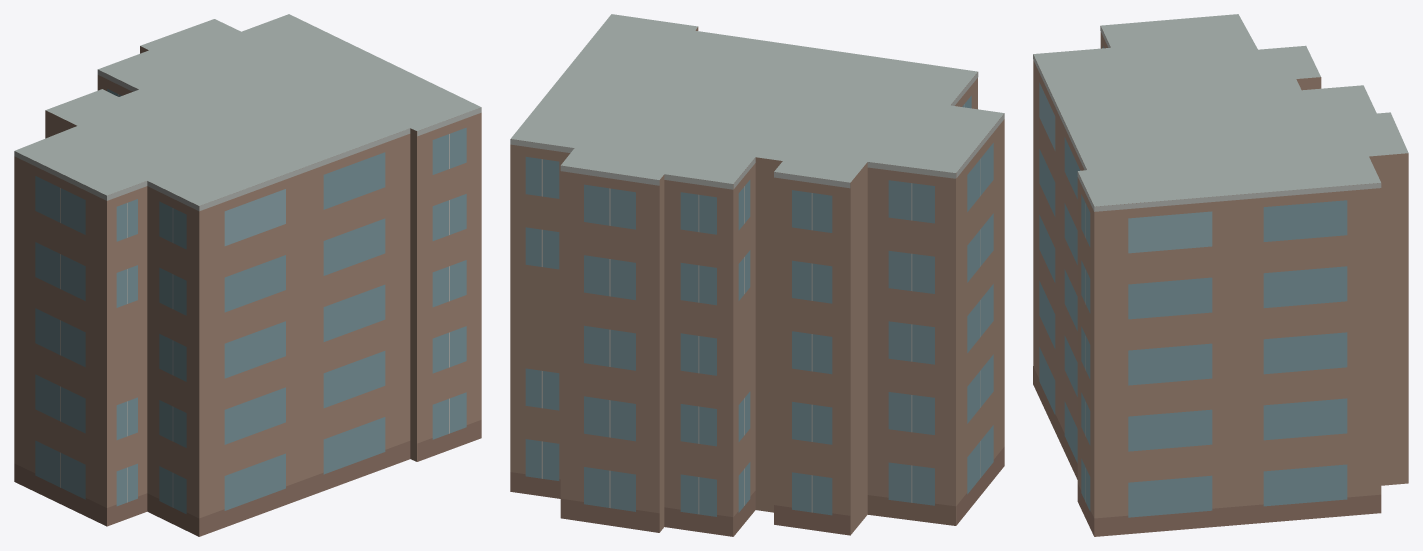
Rendered from survey-upis-32917783.glb.
3 renders of one model, left to right at view 1: azimuth 30°, elevation 25°; view 2: azimuth 150°, elevation 25°; view 3: azimuth 270°, elevation 25°, orthographic. The views are drawn at different scales.
Parts seen in each view (by area): view 1: survey-upis-32917783.tmp; view 2: survey-upis-32917783.tmp; view 3: survey-upis-32917783.tmp.
Part boxes in pixels (x1=…): survey-upis-32917783.tmp: x1=14, y1=14, x2=481, y2=536; survey-upis-32917783.tmp: x1=510, y1=14, x2=1004, y2=536; survey-upis-32917783.tmp: x1=1033, y1=14, x2=1408, y2=536.
Size of the model in its own units: 19.08 by 15.25 by 15.72.
